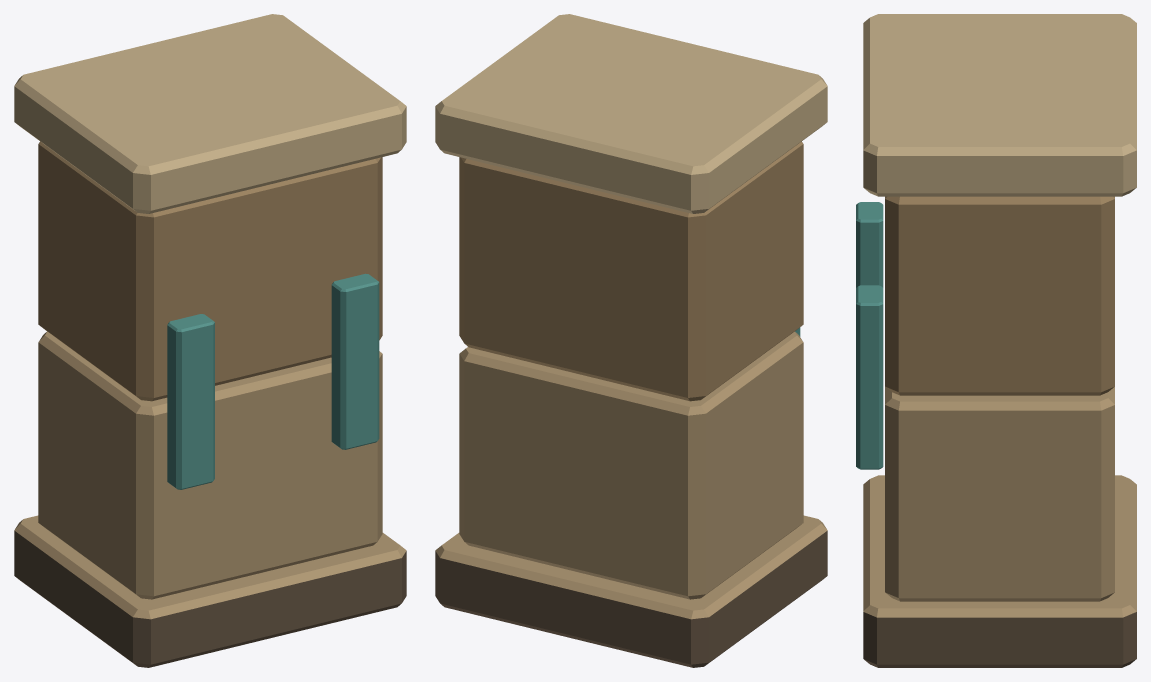
The model's file is wall-end.glb.
3 views of the same model, side by side, from view 1: azimuth 30°, elevation 25°; view 2: azimuth 150°, elevation 25°; view 3: azimuth 270°, elevation 25° (orthographic). The views are drawn at different scales.
Visible parts, largest first — view 1: wall-end__body; view 2: wall-end__body; view 3: wall-end__body.
Part boxes in pixels (x1,y1,x2,y2): wall-end__body: (14, 14, 406, 667); wall-end__body: (435, 14, 827, 667); wall-end__body: (856, 14, 1136, 667).
Bounding box in the file's own units: 0.6 × 1.05 × 0.513.
